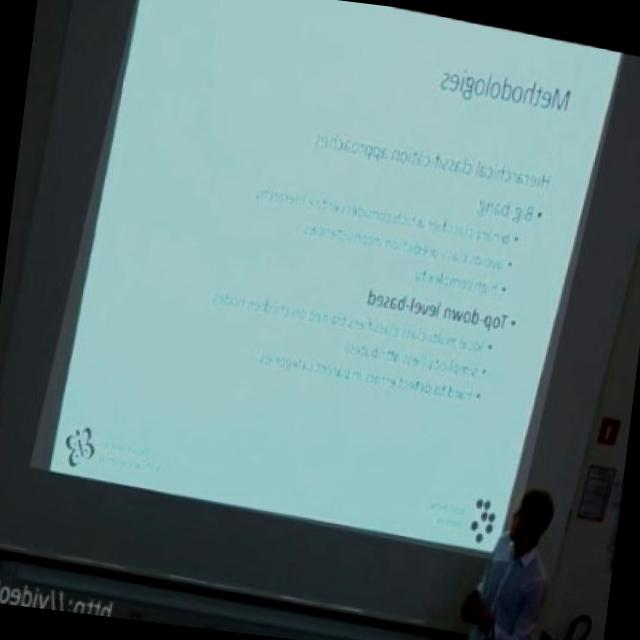Instructor: (460, 478, 579, 640)
Slide: (41, 0, 616, 555)
